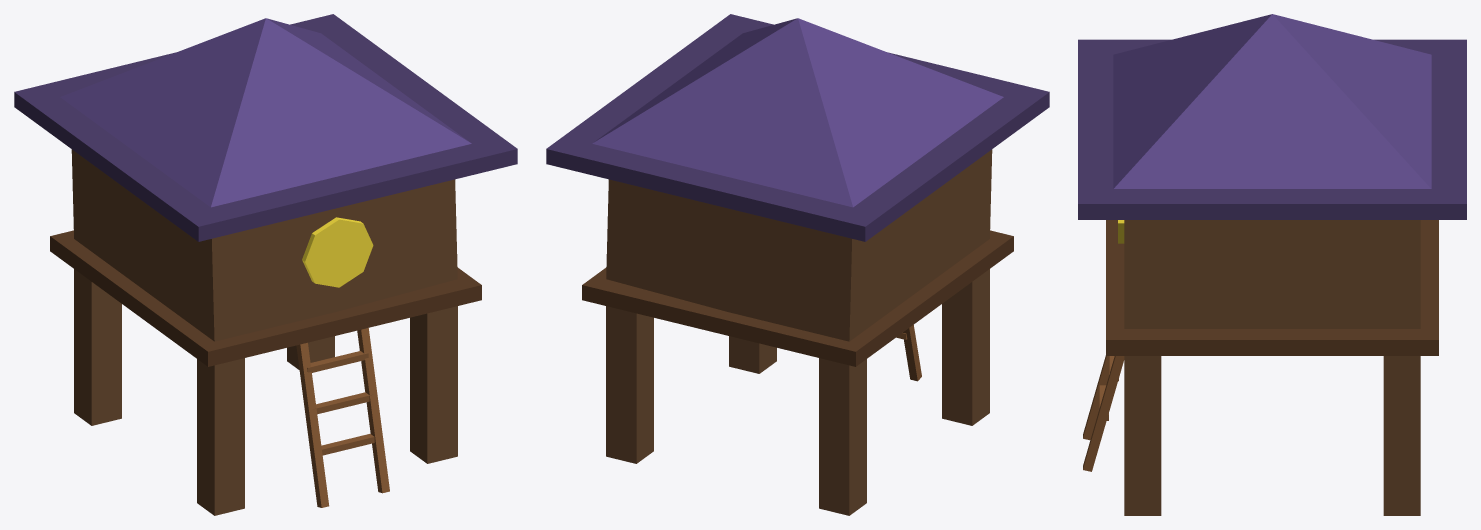
The model's file is env_r6_witch_hut.glb.
3 renders of one model, left to right at view 1: azimuth 30°, elevation 25°; view 2: azimuth 150°, elevation 25°; view 3: azimuth 270°, elevation 25°, orthographic. The views are drawn at different scales.
Visible parts, largest first — view 1: env_r6_witch_hut; view 2: env_r6_witch_hut; view 3: env_r6_witch_hut.
Boxes of the visible parts, x1=… form: env_r6_witch_hut: x1=14, y1=14, x2=517, y2=515; env_r6_witch_hut: x1=546, y1=14, x2=1049, y2=515; env_r6_witch_hut: x1=1078, y1=14, x2=1466, y2=515.
Bounding box in the file's own units: 4.4 × 5.5 × 4.4.
1 material, 1 textured.
